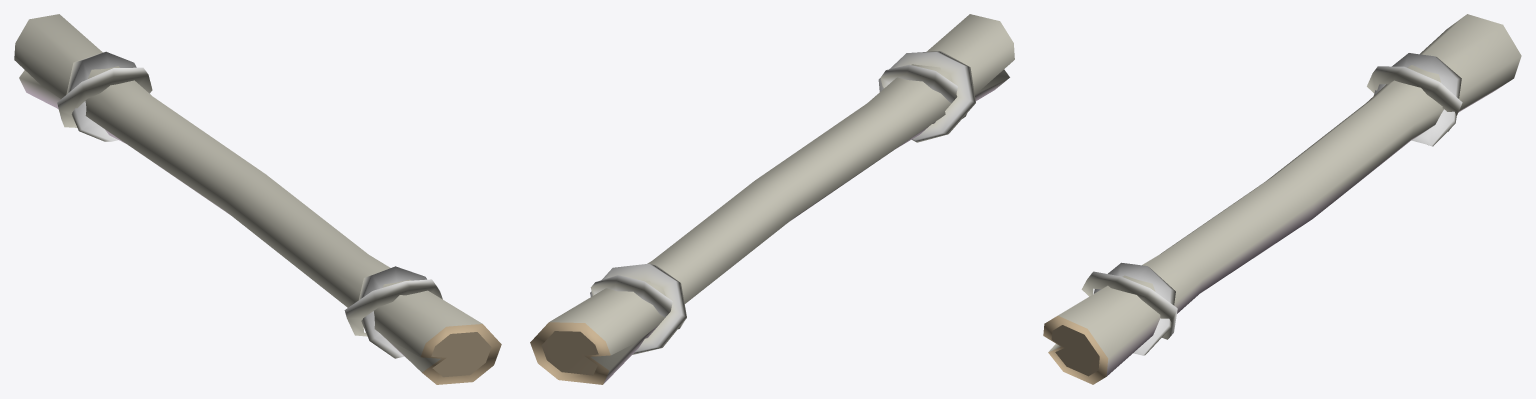
The model's file is WoodRailing.glb.
3 renders of one model, left to right at view 1: azimuth 30°, elevation 25°; view 2: azimuth 150°, elevation 25°; view 3: azimuth 330°, elevation 25°, orthographic.
Visible parts, largest first — view 1: WoodRailing; view 2: WoodRailing; view 3: WoodRailing.
Part boxes in pixels (left/top/right/bottom): WoodRailing: left=14, top=14, right=501, bottom=384; WoodRailing: left=530, top=14, right=1014, bottom=384; WoodRailing: left=1043, top=14, right=1521, bottom=384.
Bounding box in the file's own units: 0.4676 × 0.3514 × 3.58.
